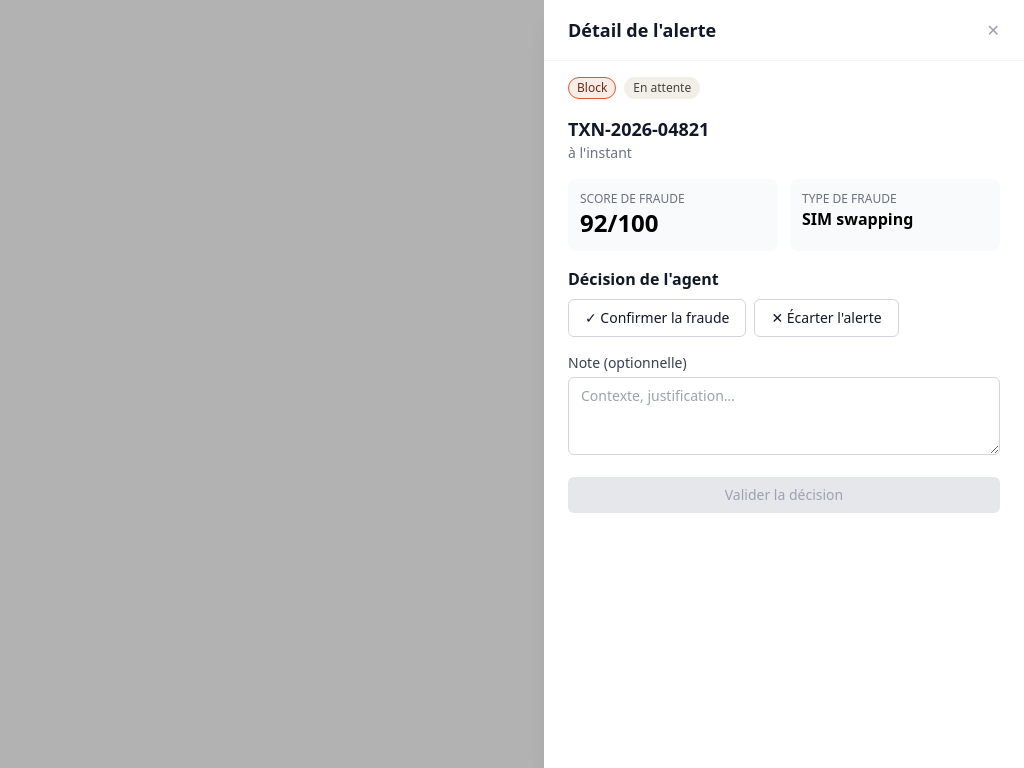
Test case: AlertDetailPanel › dégrade honnêtement le bandeau de conflit si le lookup ne retrouve pas l'alerte
Click the button "✓ Confirmer la fraude".
click(657, 318)  # box [568,299,746,337]
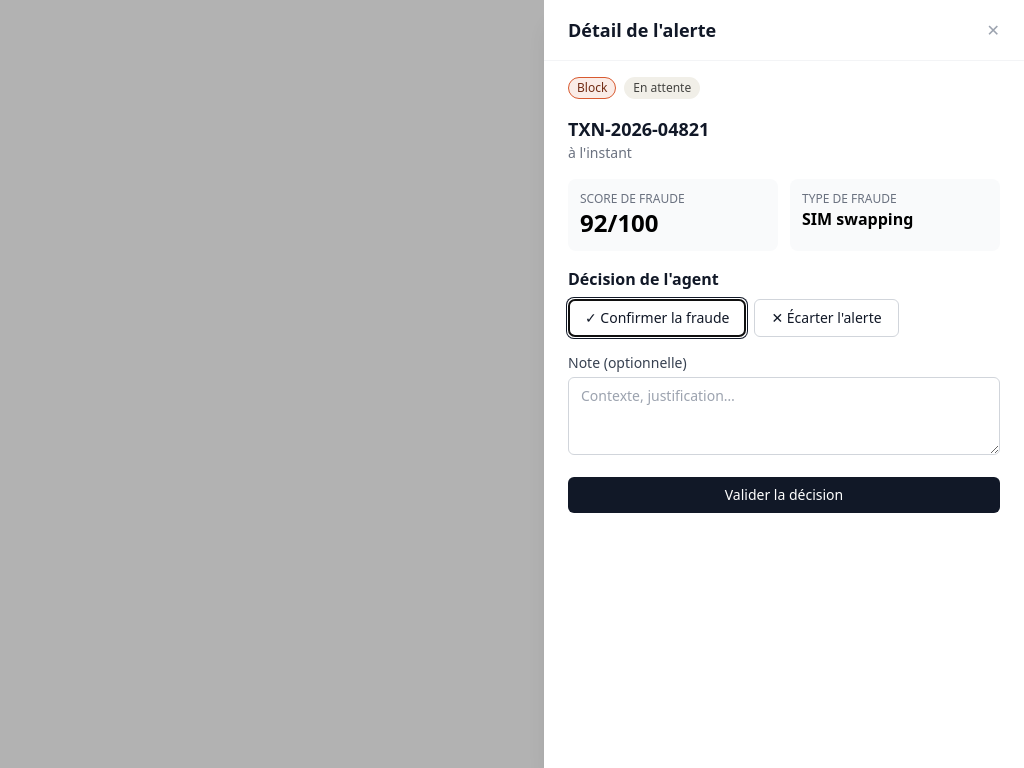
Click the button "Valider la décision".
click(784, 495)  # box [568,477,1000,513]
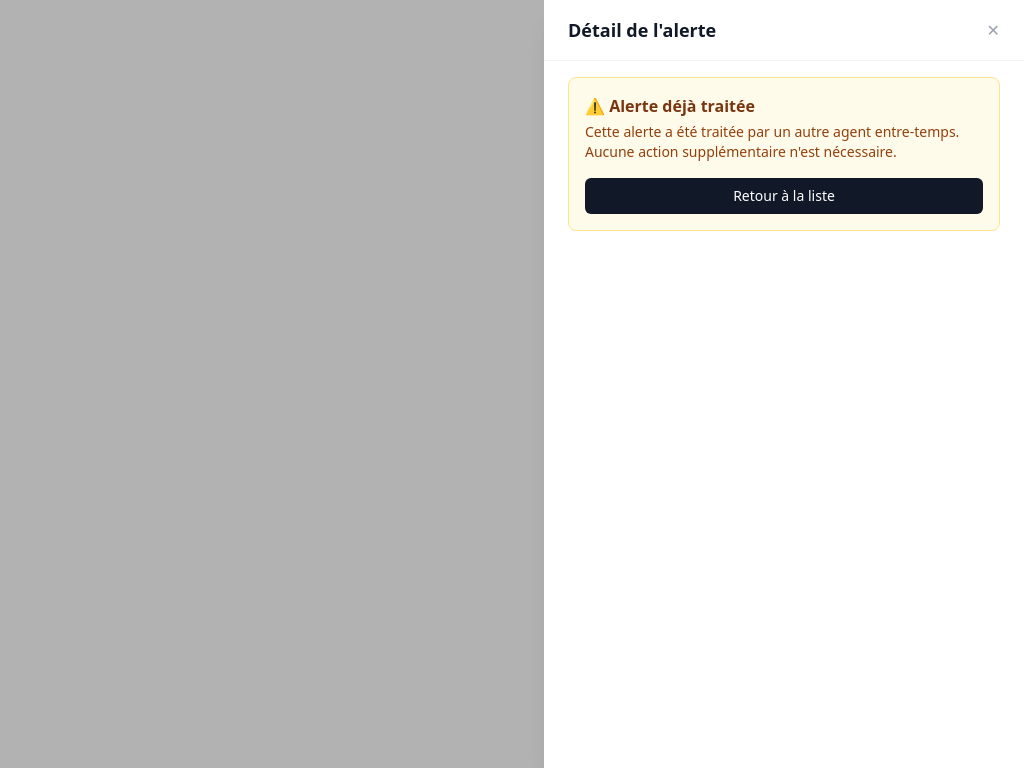
Expected: the text "traitée par un autre agent entre-temps" is shown, [585,122,959,141]
